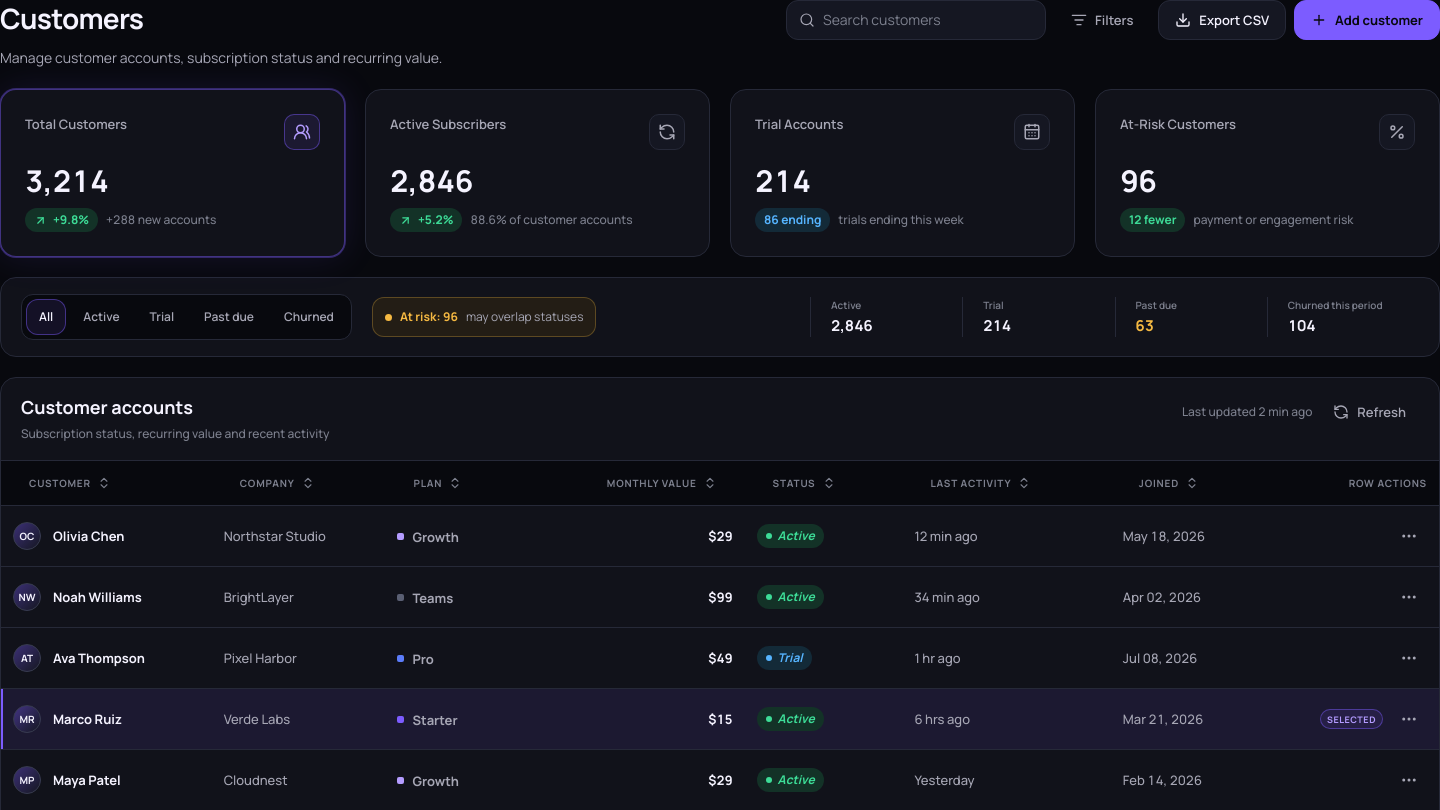
Scenario: CustomersDashboard › searches customer and company names case-insensitively and renders an empty state
The width and height of the screenshot is (1440, 810).
In the search field labelled "Search customers": (928, 20) [823,9,1033,31], type "olivia"
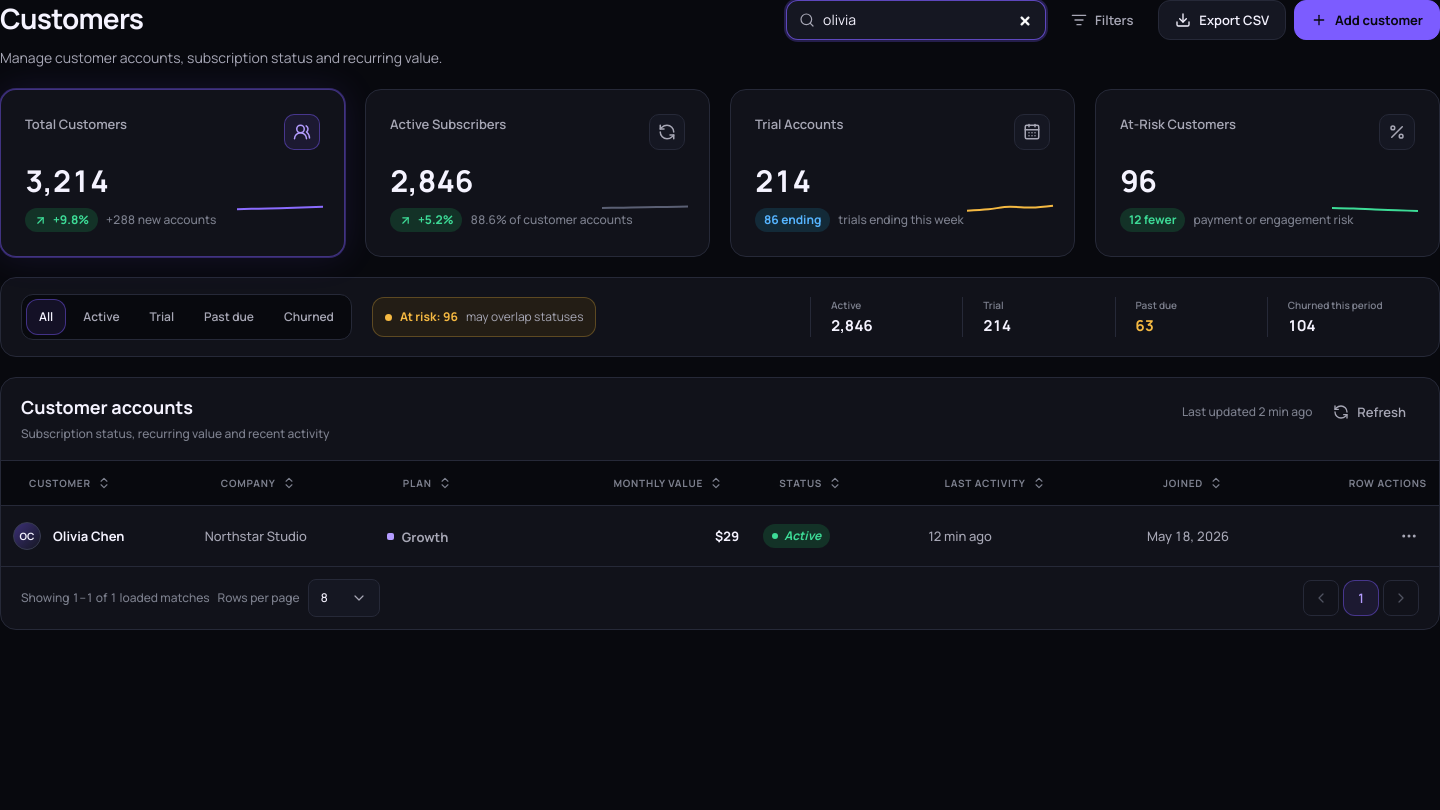
expect the column heading "OC Olivia Chen" is shown: met, box [1,506,193,566]
expect the text "Noah Williams" is gone: met
Replace the text in the search field named "Search customers" with "BRIGHTLAYER": (928, 20) [823,9,1033,31]
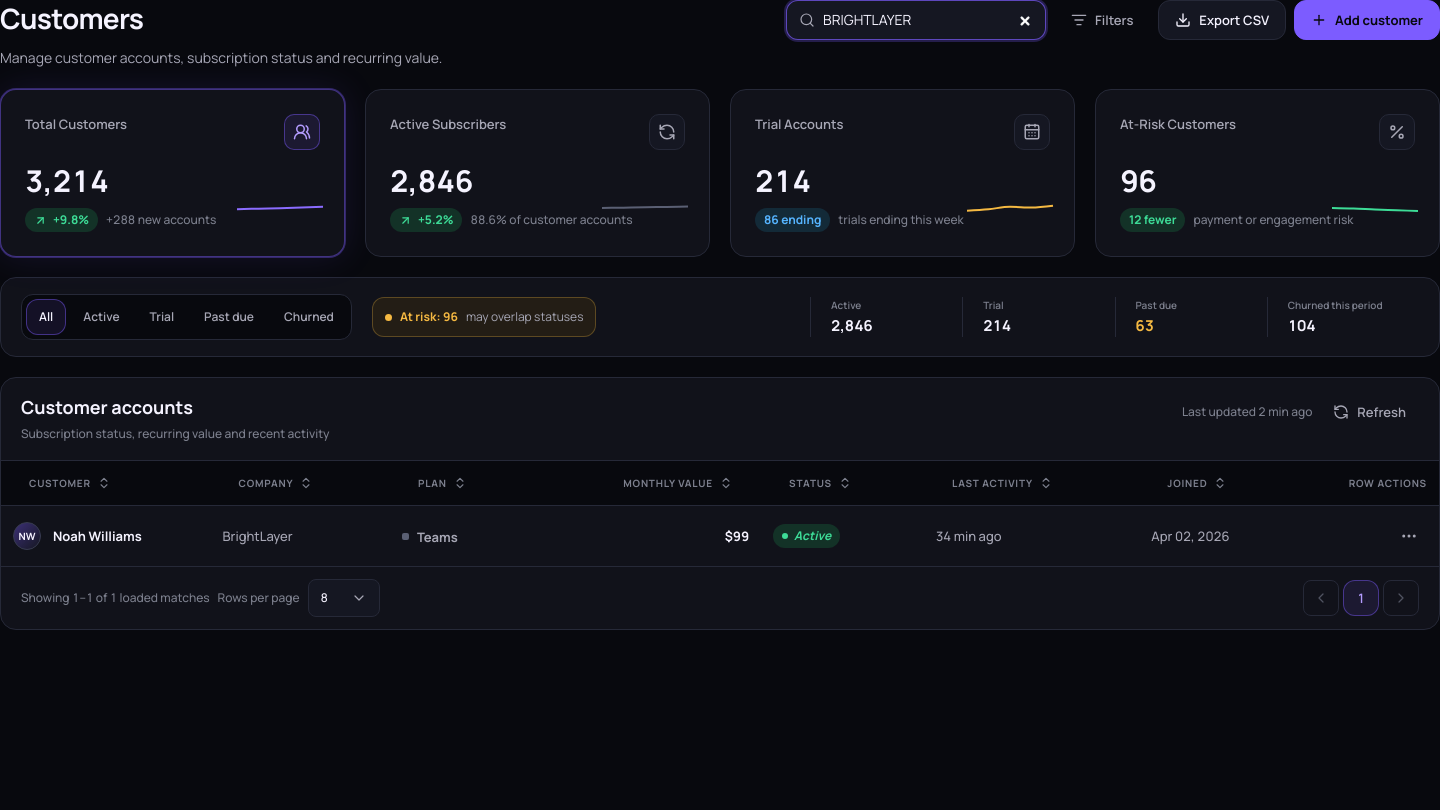
expect the column heading "NW Noah Williams" is shown: met, box [1,506,210,566]
Replace the text in the search field named "Search customers" with "no customer here": (928, 20) [823,9,1033,31]
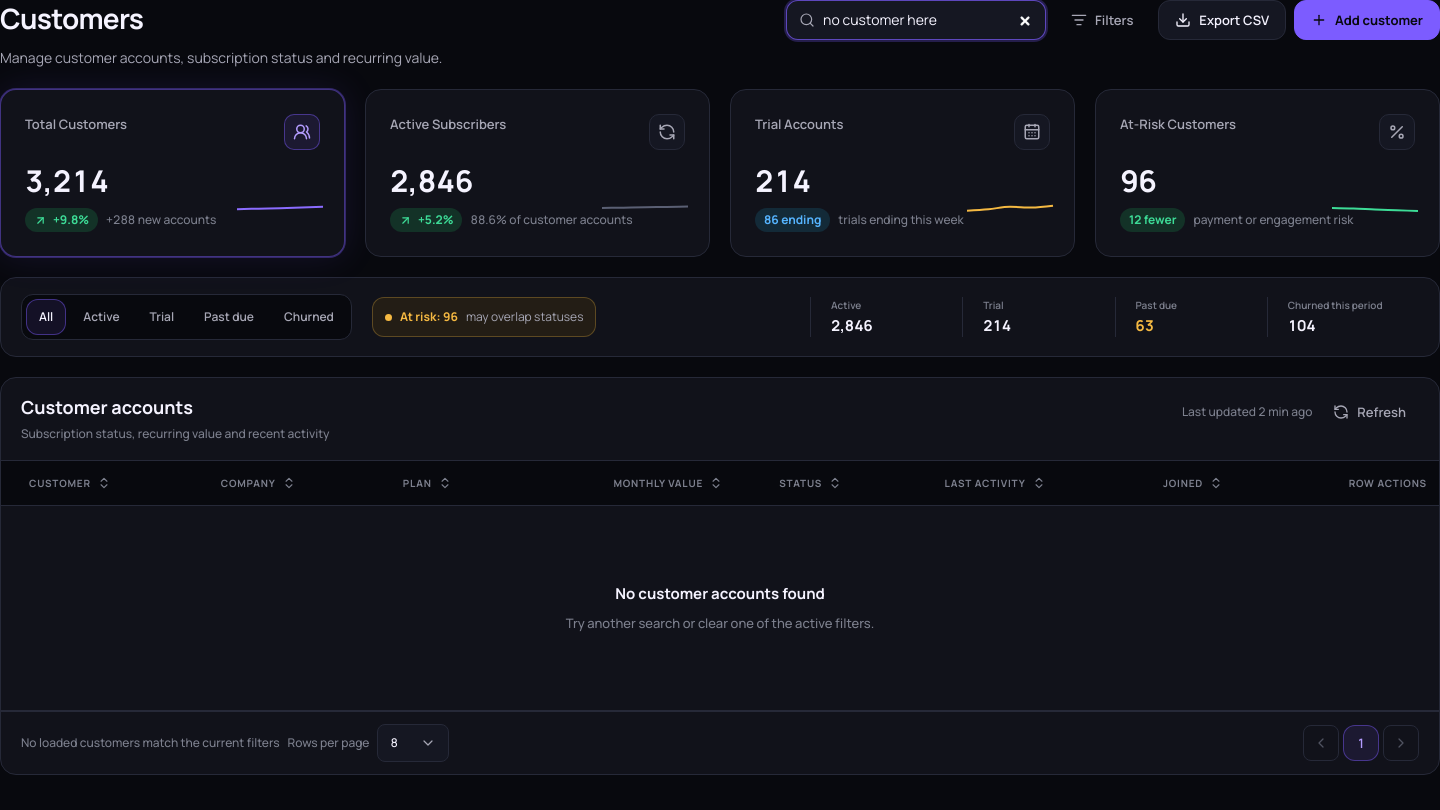
expect the text "No customer accounts found" is shown: met, box [615,583,825,605]
